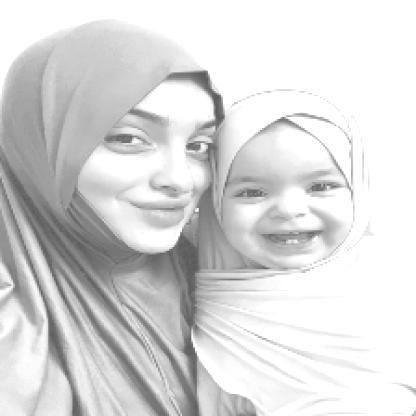child: (196, 87, 415, 416)
